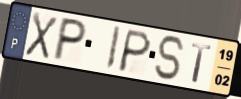I: (103, 24, 122, 73)
P: (50, 16, 89, 63), (116, 28, 154, 75)
S: (154, 34, 188, 82)
T: (190, 41, 214, 85)
X: (23, 10, 60, 62)
